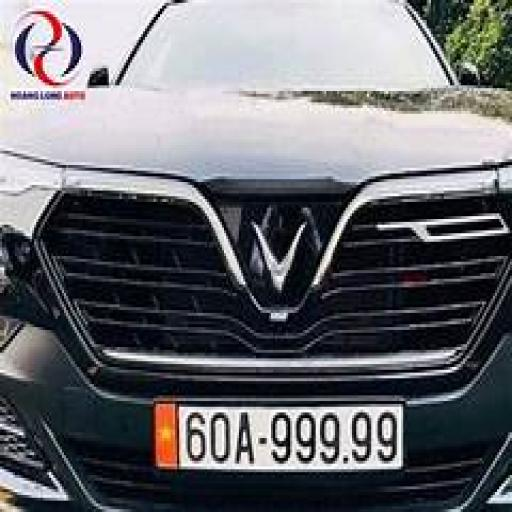place: (179, 408, 404, 468)
